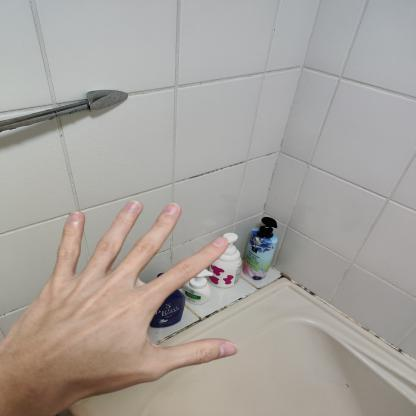bare_hand: (0, 193, 246, 416)
